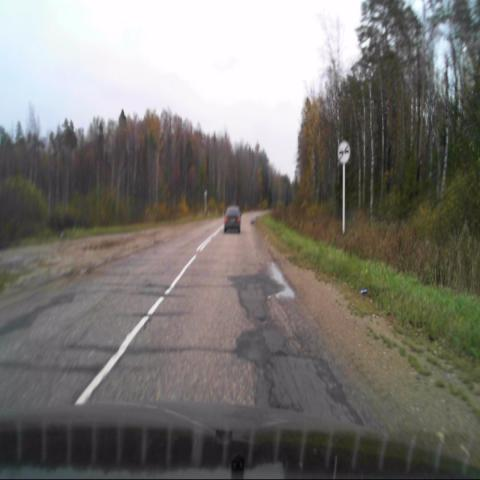3_21: (338, 139, 350, 164)
